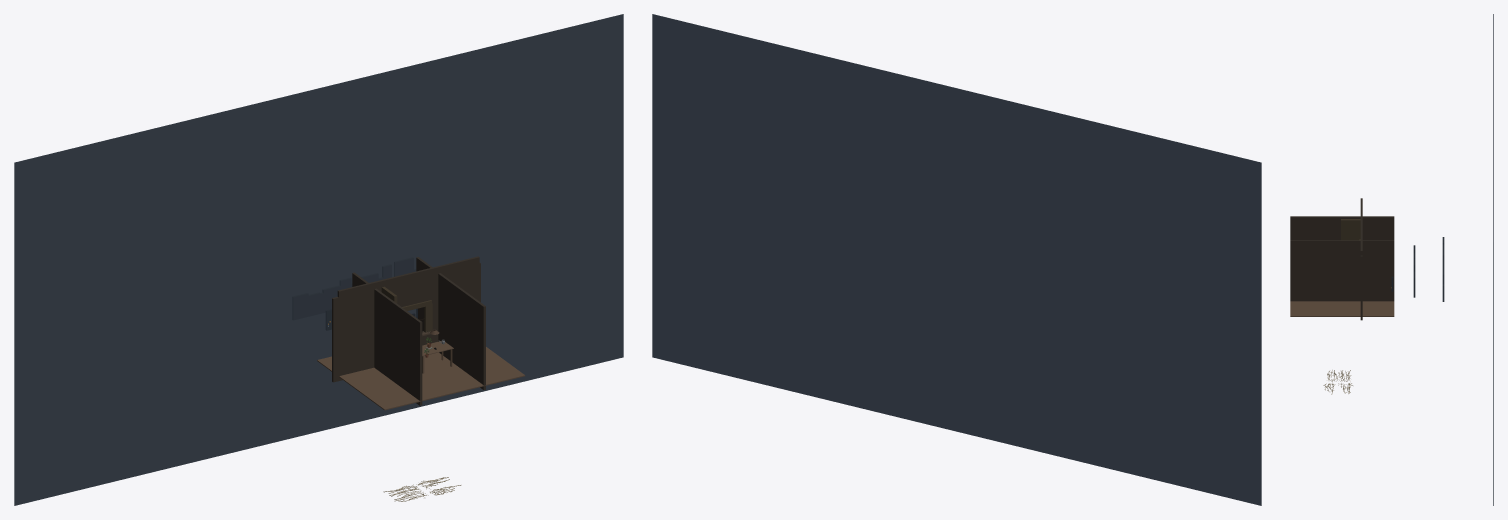
The model's file is room.glb.
The picture shows the model from 3 angles, left to right: view 1: azimuth 30°, elevation 25°; view 2: azimuth 150°, elevation 25°; view 3: azimuth 270°, elevation 25°; orthographic projection. The views are drawn at different scales.
Parts seen in each view (by area): view 1: Cube.011, Cube, Cube.006, Cube.005, Cube.002, Cube.003, Cube.004, Cube.001; view 2: Cube.011; view 3: Cube.005, Cube.006, Cube, Cube.011, Cube.120.
Part boxes in pixels (<box>): Cube.011: <box>14,14,623,505</box>; Cube: <box>317,347,525,410</box>; Cube.006: <box>352,272,422,405</box>; Cube.005: <box>416,257,485,389</box>; Cube.002: <box>337,256,479,325</box>; Cube.003: <box>332,287,381,382</box>; Cube.004: <box>431,262,480,342</box>; Cube.001: <box>339,331,431,374</box>; Cube.011: <box>652,14,1261,505</box>; Cube.005: <box>1290,240,1394,301</box>; Cube.006: <box>1290,216,1394,240</box>; Cube: <box>1290,301,1394,316</box>; Cube.011: <box>1493,14,1493,505</box>; Cube.120: <box>1341,219,1360,240</box>.
Bounding box in the file's own units: 26 × 14 × 9.77.
